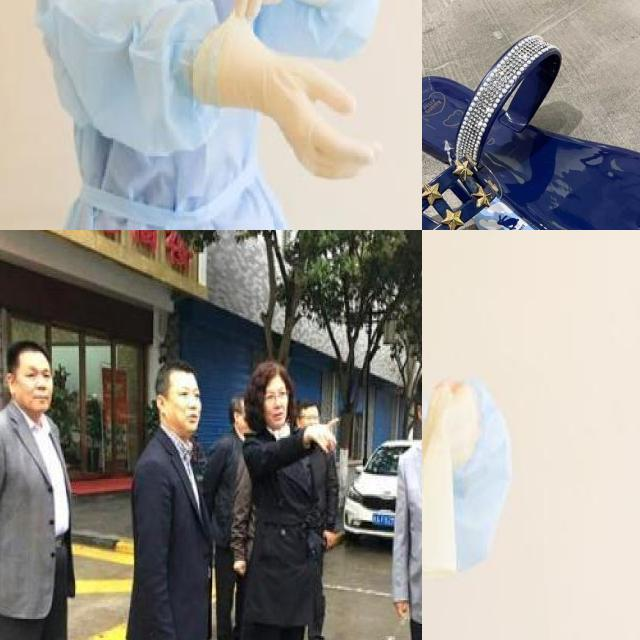No_Ear-Protection: (153, 392, 168, 420), (4, 372, 18, 398)
No_Glasses: (20, 364, 54, 386)
Sandals: (422, 15, 640, 230), (422, 150, 640, 230)
face_nomask: (171, 385, 204, 431), (20, 364, 55, 402), (258, 387, 292, 423)
hand_glove: (225, 46, 382, 182), (230, 0, 316, 19)
head_nohelmet: (158, 355, 198, 383), (249, 359, 289, 386), (6, 338, 49, 362)
person: (7, 0, 385, 230), (422, 230, 502, 640), (0, 333, 104, 640), (238, 357, 340, 640), (126, 355, 214, 640)
shoes: (305, 631, 332, 640)
